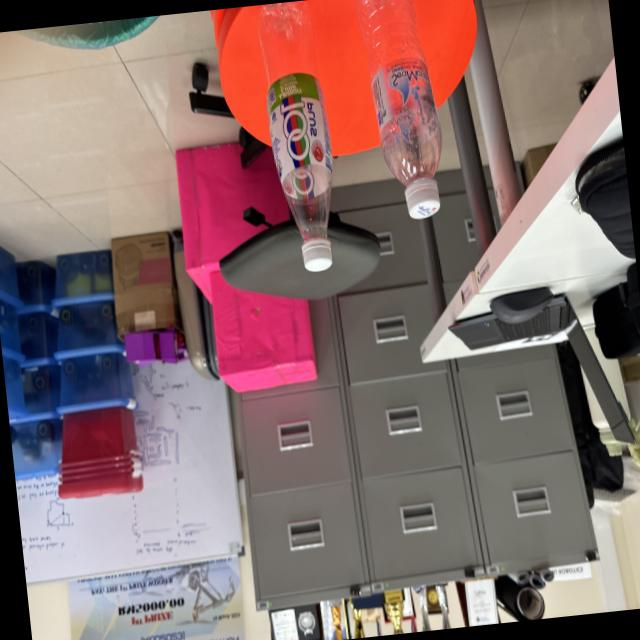plastic_bottle: (246, 0, 349, 282), (351, 0, 460, 230)
